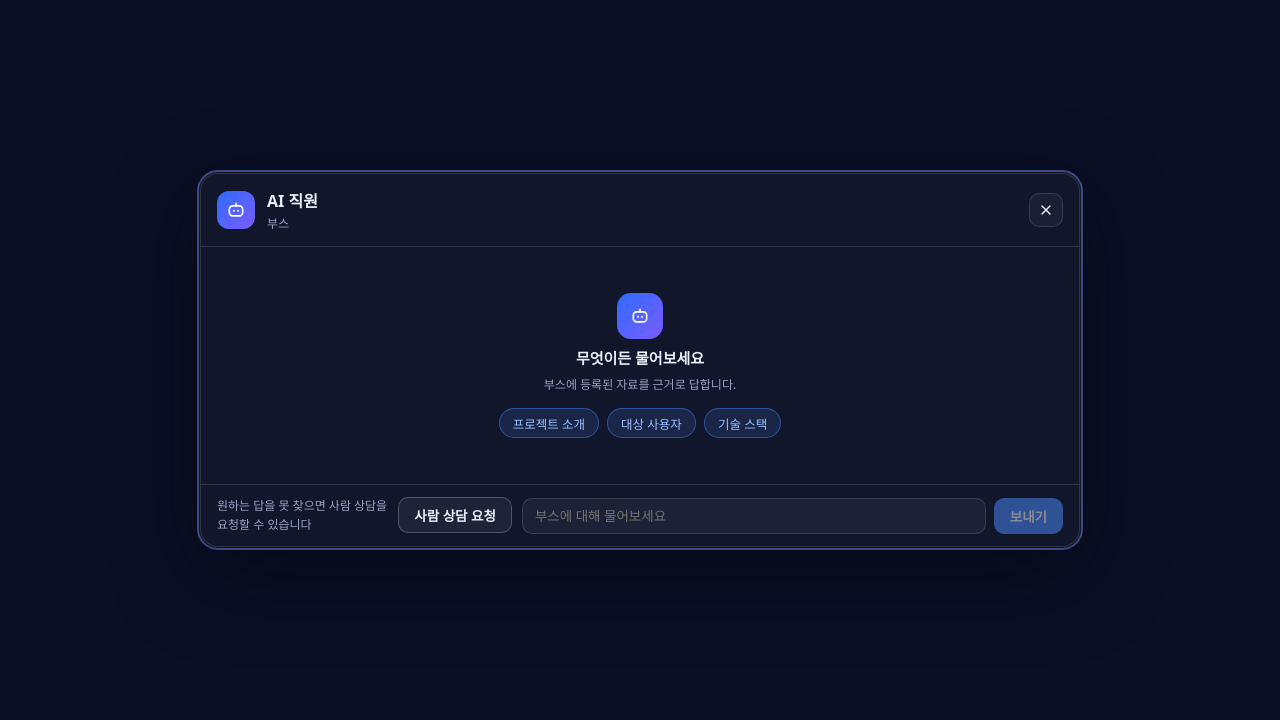
Scenario: AiChatOverlay 실서버 결선·SSE 렌더링 › 같은 대화에서 두 번째 질문은 Conversation을 다시 만들지 않는다
Type "첫 질문" into the field with placeholder "부스에 대해 물어보세요" at (754, 516), box [522, 498, 986, 534]
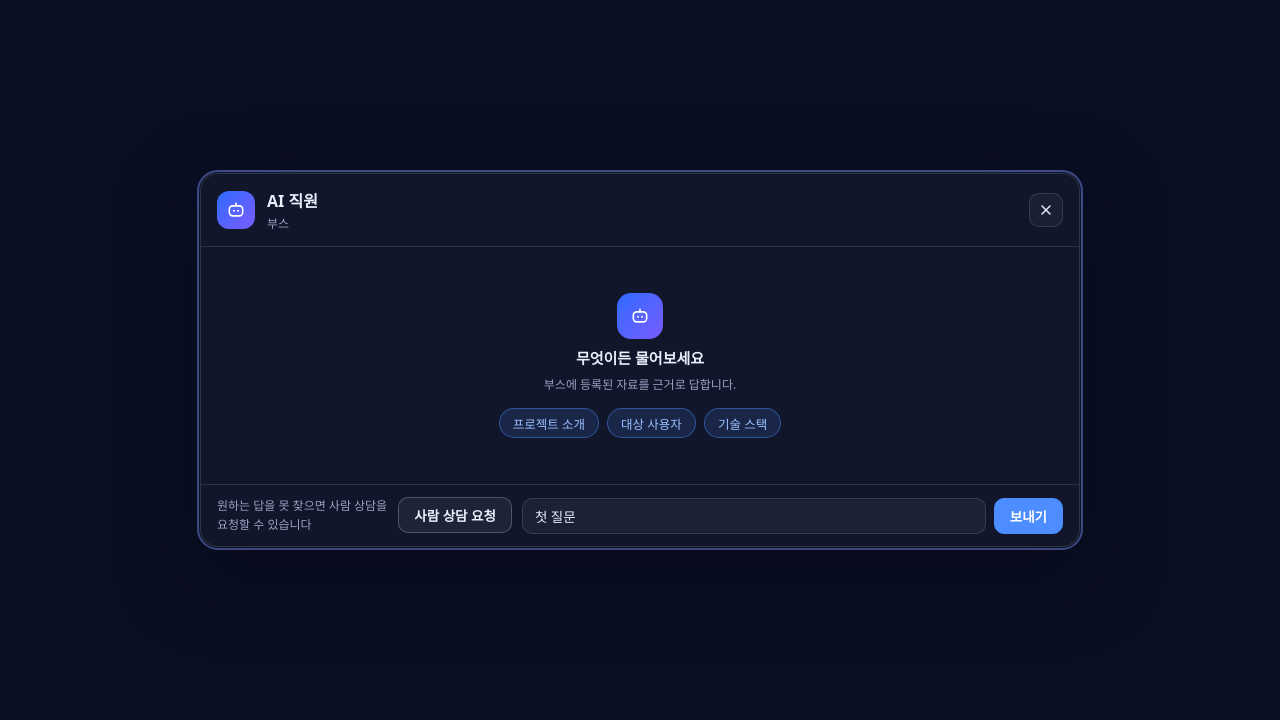
Click the button "보내기" at (1028, 516), box [994, 498, 1063, 534]
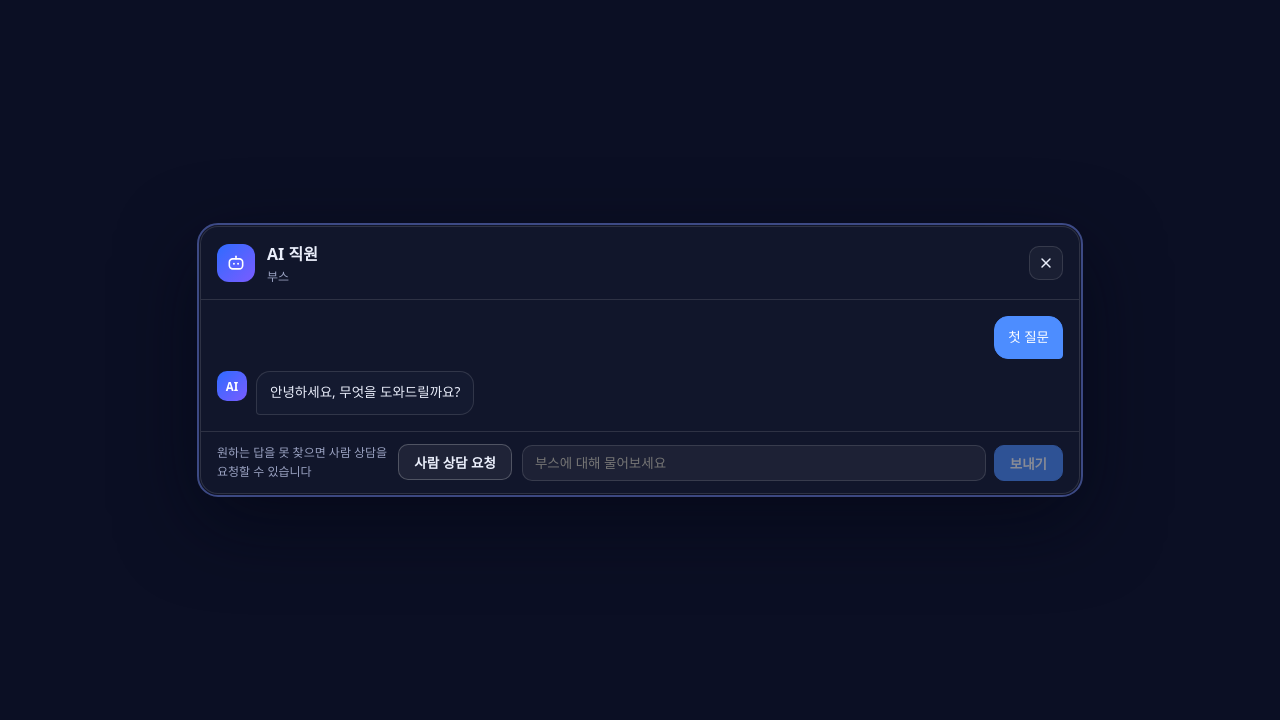
Check: the text "안녕하세요, 무엇을 도와드릴까요?" is shown once, box [270, 382, 460, 404]
Type "두 번째 질문" into the field with placeholder "부스에 대해 물어보세요" at (754, 463), box [522, 445, 986, 481]
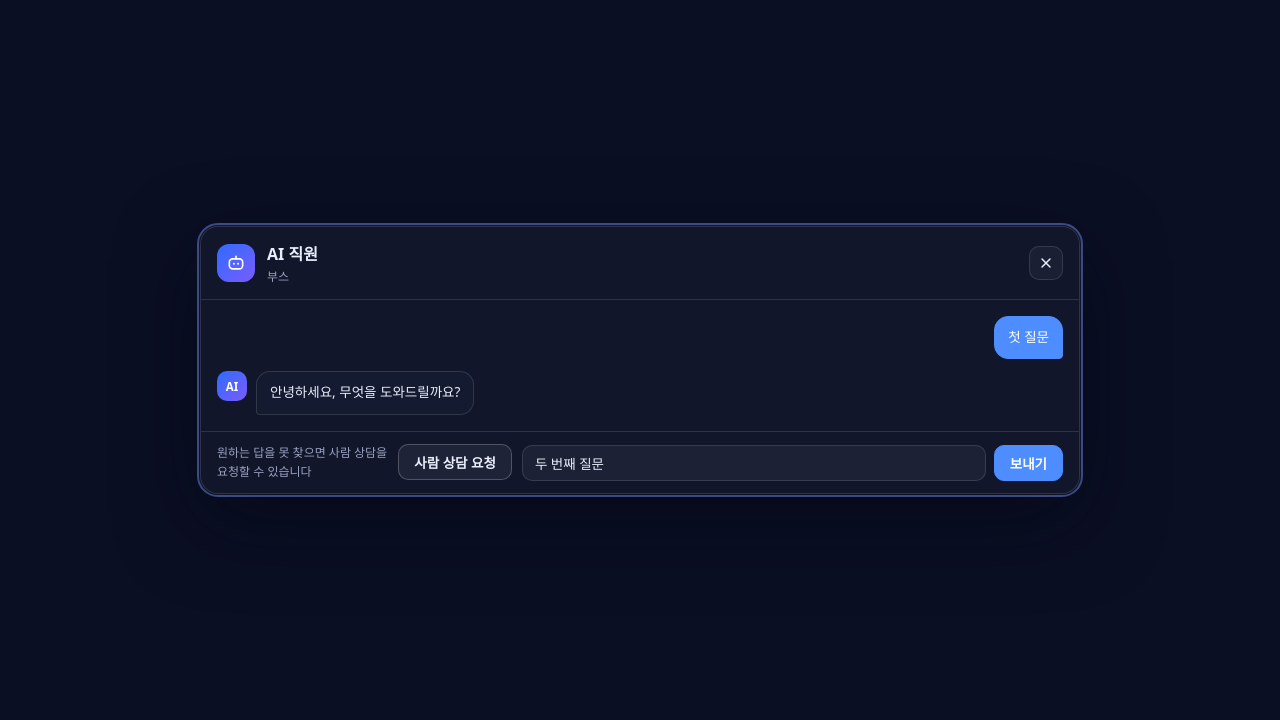
Click the button "보내기" at (1028, 463), box [994, 445, 1063, 481]
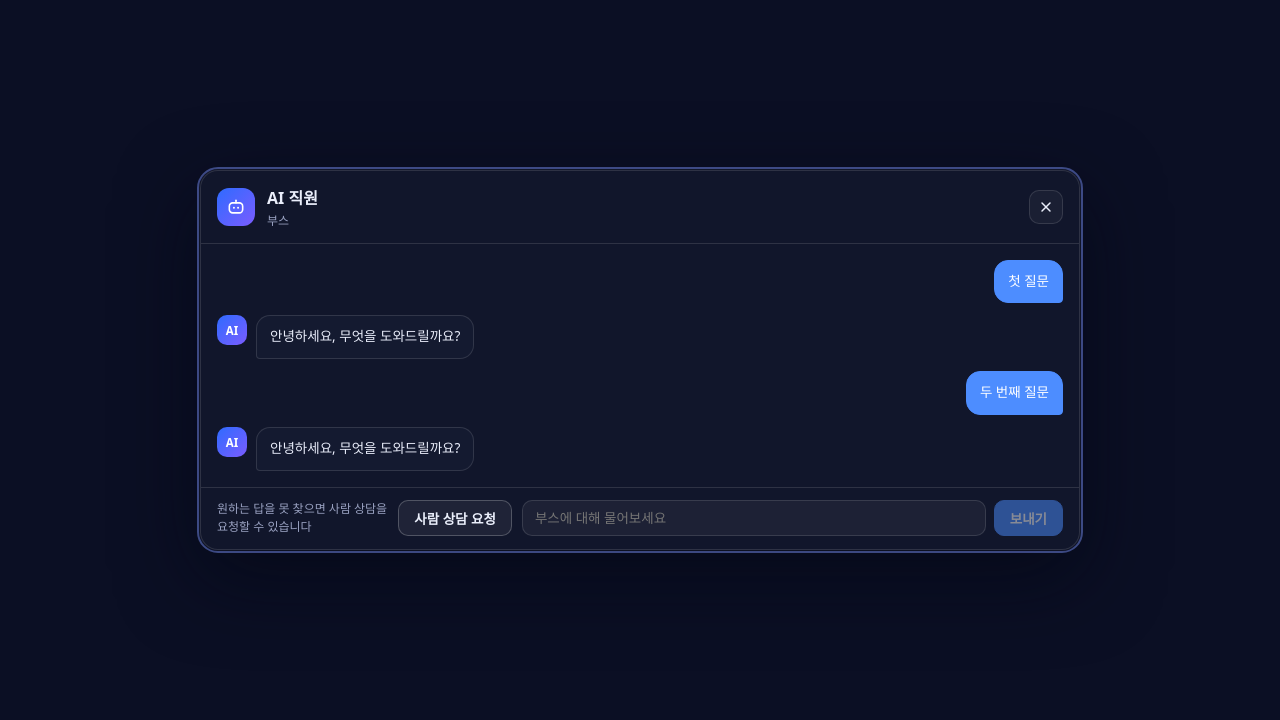
Check: the text "안녕하세요, 무엇을 도와드릴까요?" is shown 2 times, box [270, 327, 460, 348]; [270, 438, 460, 460]
